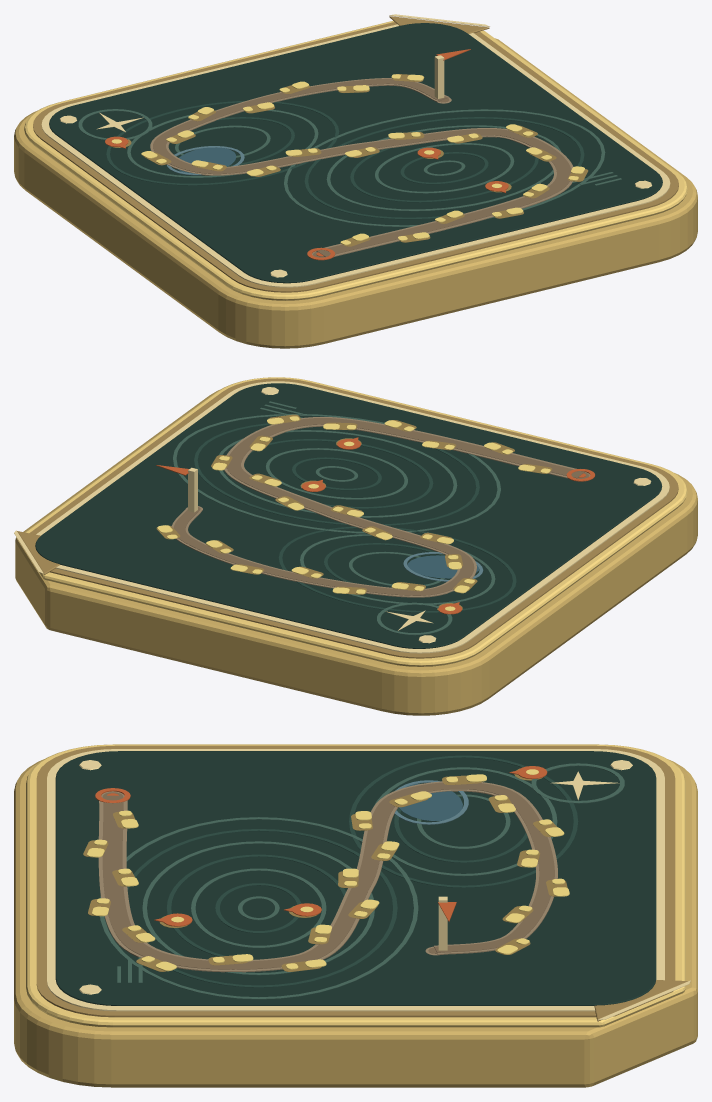
The model's file is days_21.glb.
3 views of the same model, one above another, from view 1: azimuth 30°, elevation 25°; view 2: azimuth 150°, elevation 25°; view 3: azimuth 270°, elevation 25° (orthographic). The views are drawn at different scales.
Parts seen in each view (by area): view 1: DP_Field, DP_Body, DP_FrameAll, DP_Contours, DP_Trail1, DP_Trail0, DP_Feet, DP_FeetShadow, DP_Lake, DP_Pins, DP_Rose; view 2: DP_Field, DP_Body, DP_FrameAll, DP_Contours, DP_Trail1, DP_Trail0, DP_Feet, DP_FeetShadow, DP_Lake, DP_Pins, DP_Rose; view 3: DP_Field, DP_Body, DP_FrameAll, DP_Contours, DP_Trail1, DP_Feet, DP_Trail0, DP_FeetShadow, DP_Lake, DP_Pins, DP_Rose.
Boxes of the visible parts, <box> form: DP_Field: <box>49,23,662,283</box>; DP_Body: <box>14,38,697,348</box>; DP_FrameAll: <box>24,14,687,300</box>; DP_Contours: <box>106,101,605,226</box>; DP_Trail1: <box>153,78,571,256</box>; DP_Trail0: <box>150,78,573,257</box>; DP_Feet: <box>141,74,584,245</box>; DP_FeetShadow: <box>144,74,588,246</box>; DP_Lake: <box>177,147,236,173</box>; DP_Pins: <box>105,136,511,193</box>; DP_Rose: <box>78,109,152,139</box>; DP_Field: <box>35,383,662,648</box>; DP_Body: <box>15,390,697,715</box>; DP_FrameAll: <box>14,377,687,666</box>; DP_Contours: <box>173,414,516,612</box>; DP_Trail1: <box>173,418,584,595</box>; DP_Trail0: <box>171,417,585,597</box>; DP_Feet: <box>157,416,550,594</box>; DP_FeetShadow: <box>156,414,552,594</box>; DP_Lake: <box>407,555,478,578</box>; DP_Pins: <box>300,437,462,614</box>; DP_Rose: <box>377,602,452,635</box>; DP_Field: <box>55,751,656,1005</box>; DP_Body: <box>14,759,697,1087</box>; DP_FrameAll: <box>26,744,690,1027</box>; DP_Contours: <box>100,755,578,999</box>; DP_Trail1: <box>102,782,554,969</box>; DP_Feet: <box>87,774,569,971</box>; DP_Trail0: <box>98,781,557,972</box>; DP_FeetShadow: <box>83,775,567,971</box>; DP_Lake: <box>398,784,462,821</box>; DP_Pins: <box>154,766,547,927</box>; DP_Rose: <box>531,763,624,803</box>.
Size of the model in its own units: 0.0394 by 0.0076 by 0.0394.
